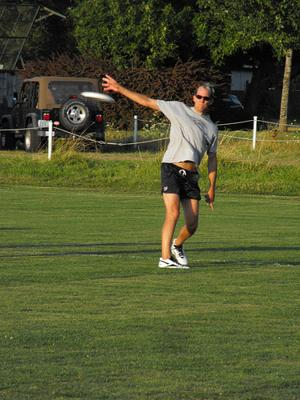person: (102, 74, 218, 271)
